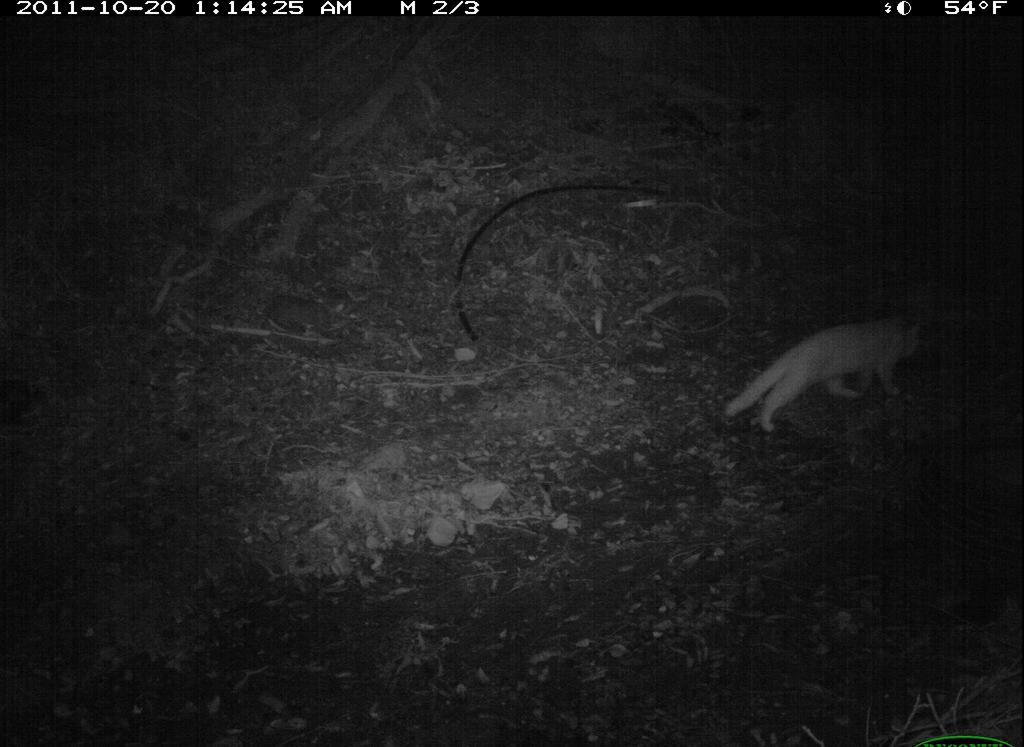cat: (722, 316, 922, 437)
